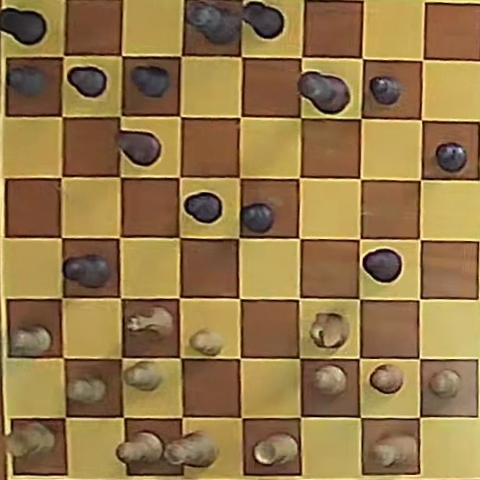black-bishop: (64, 255, 110, 288), (363, 249, 402, 283)
black-king: (299, 72, 349, 113)
black-knight: (117, 131, 161, 166)
black-pawn: (131, 65, 171, 98), (67, 66, 107, 98), (7, 66, 47, 97), (184, 192, 222, 223), (241, 202, 274, 232), (435, 143, 467, 172), (370, 76, 401, 105)
black-queen: (185, 2, 240, 44)
black-rook: (0, 7, 47, 46), (242, 2, 284, 39)
white-bishop: (117, 431, 165, 464)
white-king: (372, 434, 417, 468)
white-knight: (127, 306, 174, 338), (310, 312, 348, 348)
white-pawn: (10, 324, 52, 356), (124, 361, 162, 391), (68, 375, 107, 403), (313, 365, 347, 395), (429, 369, 462, 399), (369, 364, 403, 393), (190, 329, 224, 356)
white-queen: (164, 431, 218, 467)
white-rook: (6, 422, 56, 457), (253, 433, 299, 466)
